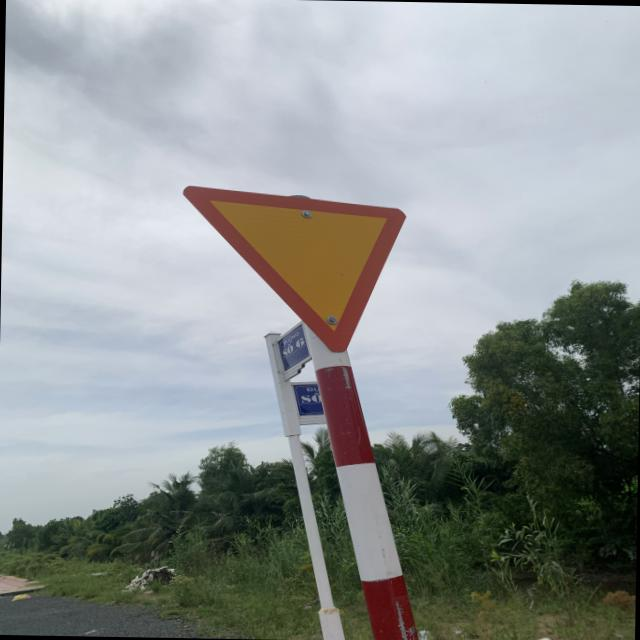Gioi_Han_Toc_Do_25: (180, 182, 408, 352)
